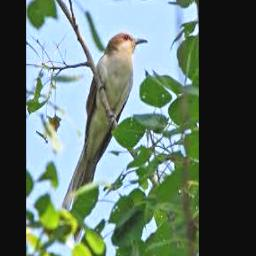Cuckoo: (62, 32, 148, 242)
